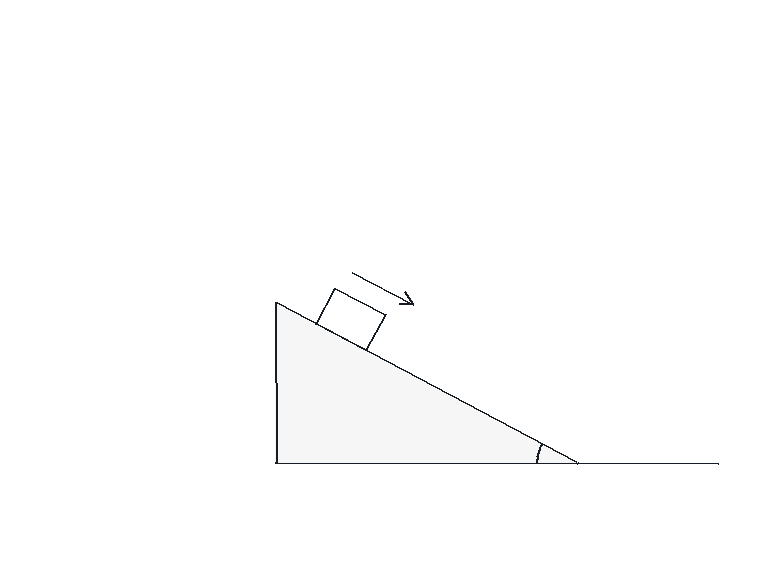block: (314, 286, 386, 352)
ramp: (273, 300, 579, 465)
